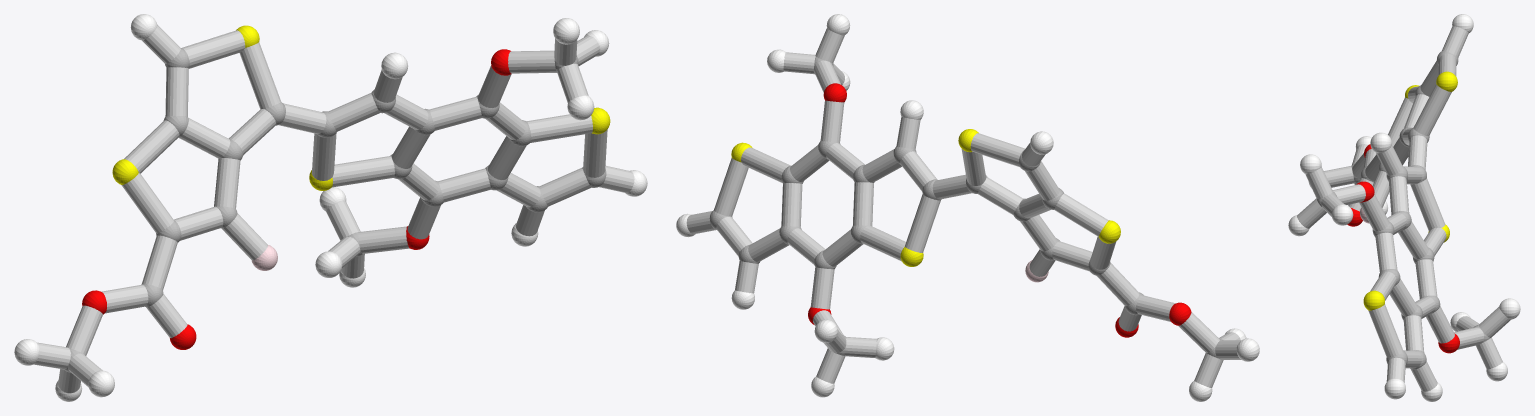
Rendered from color.glb.
3 views of the same model, side by side, from view 1: azimuth 30°, elevation 25°; view 2: azimuth 150°, elevation 25°; view 3: azimuth 270°, elevation 25° (orthographic). The views are drawn at different scales.
Parts seen in each view (by area): view 1: grp15205, grp8689, grp1, grp13395, grp7241; view 2: grp15205, grp8689, grp1, grp7241, grp13395; view 3: grp15205, grp8689, grp1, grp7241, grp13395.
Boxes of the visible parts, x1,y1,x2,y2 form: grp15205: (33, 25, 634, 393); grp8689: (14, 14, 647, 401); grp1: (64, 48, 606, 372); grp13395: (82, 49, 511, 349); grp7241: (112, 25, 610, 190); grp15205: (686, 28, 1241, 387); grp8689: (676, 14, 1259, 401); grp1: (709, 56, 1222, 358); grp7241: (731, 129, 1120, 266); grp13395: (808, 83, 1191, 337); grp15205: (1297, 26, 1510, 391); grp8689: (1288, 14, 1520, 401); grp1: (1317, 51, 1490, 369); grp7241: (1363, 71, 1457, 310); grp13395: (1347, 144, 1459, 353).
Bounding box in the file's own units: 16.67 × 8.44 × 6.44.
